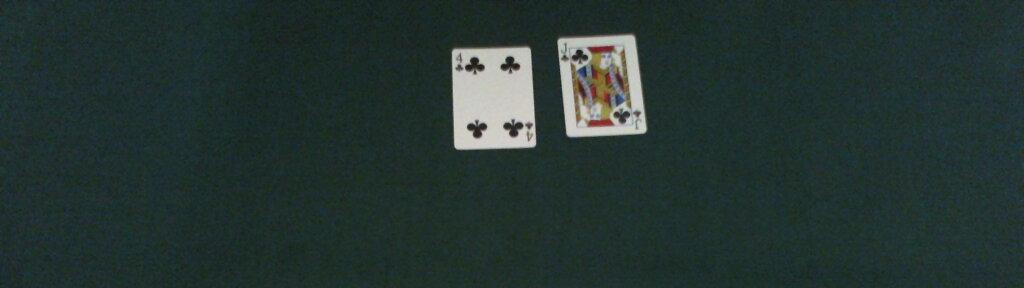four: (450, 46, 537, 150)
jack: (555, 34, 646, 138)
